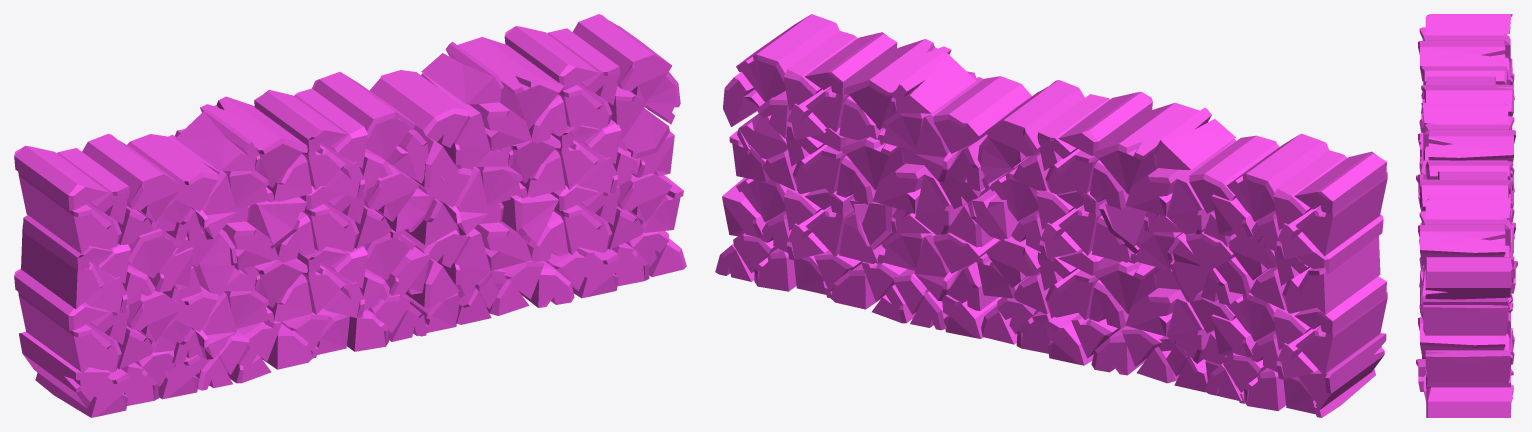
File: SM_Wood_Pile_Wall_Fantasy.fbx
The picture shows the model from 3 angles, left to right: view 1: azimuth 30°, elevation 25°; view 2: azimuth 150°, elevation 25°; view 3: azimuth 270°, elevation 25°; orthographic projection. The views are drawn at different scales.
Visible parts, largest first — view 1: SM_Wood_Pile_Wall_Fantasy; view 2: SM_Wood_Pile_Wall_Fantasy; view 3: SM_Wood_Pile_Wall_Fantasy.
Boxes of the visible parts, x1=… form: SM_Wood_Pile_Wall_Fantasy: x1=14, y1=14, x2=686, y2=417; SM_Wood_Pile_Wall_Fantasy: x1=715, y1=14, x2=1387, y2=417; SM_Wood_Pile_Wall_Fantasy: x1=1416, y1=14, x2=1517, y2=417.
Size of the model in its own units: 3.09 by 1.13 by 0.5738.
